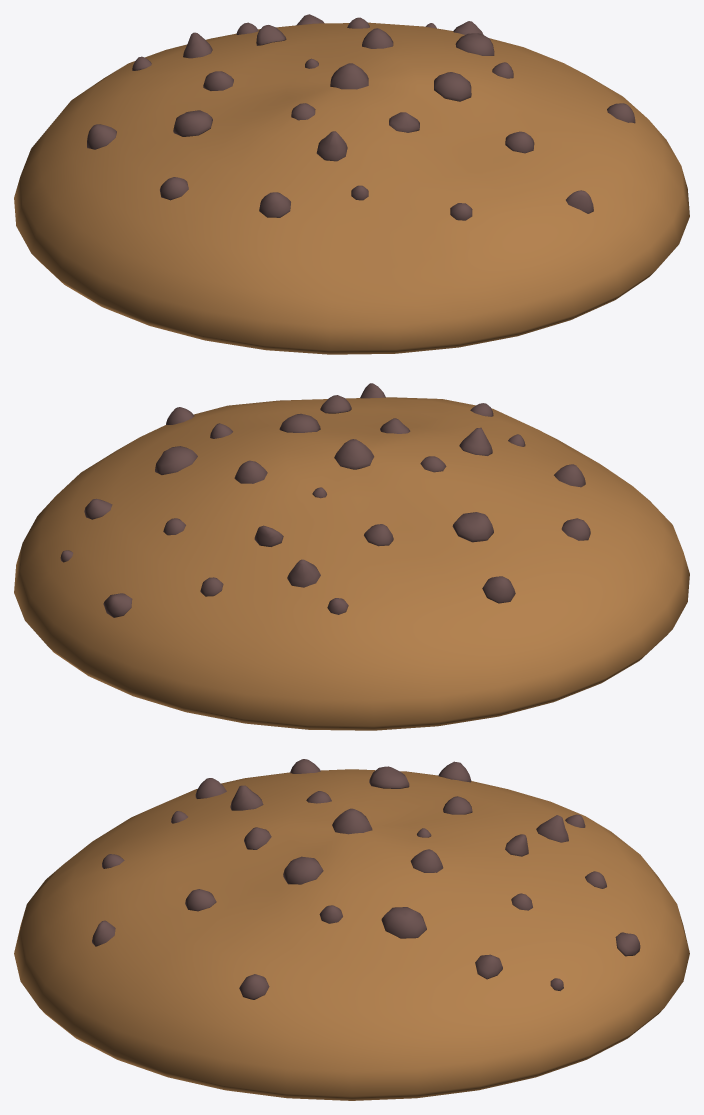
The model's file is chipahoy.fbx.
3 renders of one model, top to bottom at view 1: azimuth 30°, elevation 25°; view 2: azimuth 150°, elevation 25°; view 3: azimuth 270°, elevation 25°, orthographic.
Visible parts, largest first — view 1: Cookie, Sphere.003, Sphere.011, Sphere.001, Sphere.012, Sphere.008, Sphere.015, Sphere.025, Sphere.019; view 2: Cookie, Sphere.011, Sphere.001, Sphere.008, Sphere.025, Sphere.019, Sphere.012, Sphere.003, Sphere.002, Sphere.021; view 3: Cookie, Sphere.008, Sphere.003, Sphere.001, Sphere.011, Sphere.019, Sphere.012, Sphere.017, Sphere.002, Sphere.014, Sphere.023.
Part boxes in pixels (x1,y1,x2,y2): Cookie: (14,22,689,354); Sphere.003: (434,72,471,101); Sphere.011: (173,110,212,136); Sphere.001: (330,63,368,89); Sphere.012: (316,131,347,161); Sphere.008: (455,33,494,55); Sphere.015: (259,192,290,217); Sphere.025: (87,124,116,149); Sphere.019: (183,32,212,58); Cookie: (14,397,689,730); Sphere.011: (452,512,493,542); Sphere.001: (334,439,374,469); Sphere.008: (155,446,197,474); Sphere.025: (482,576,515,603); Sphere.019: (287,559,320,587); Sphere.012: (459,427,492,455); Sphere.003: (279,413,320,432); Sphere.002: (234,460,267,483); Sphere.021: (103,593,132,617); Cookie: (14,769,689,1100); Sphere.008: (381,907,426,938); Sphere.003: (283,856,323,884); Sphere.001: (332,808,372,834); Sphere.011: (369,766,409,788); Sphere.019: (536,815,568,842); Sphere.012: (230,785,263,810); Sphere.017: (239,974,269,999); Sphere.002: (410,849,443,872); Sphere.014: (185,889,216,911); Sphere.023: (475,954,502,979).
Bounding box in the file's own units: 200 × 52.67 × 200.
